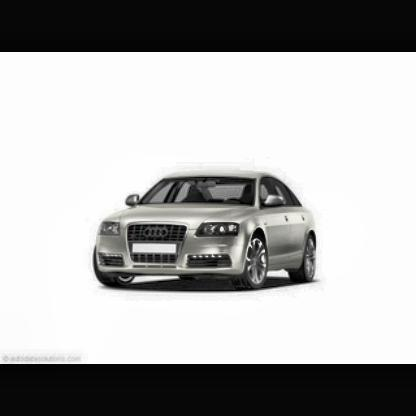Audi S6 Sedan 2011: (92, 167, 322, 297)
